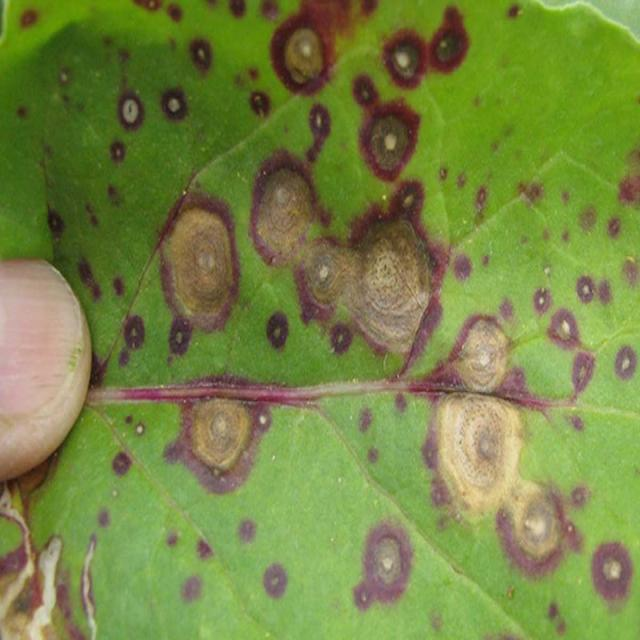Cotton Ball Rot: (155, 190, 243, 338), (356, 96, 422, 186)
Target Spot: (2, 3, 636, 636)
